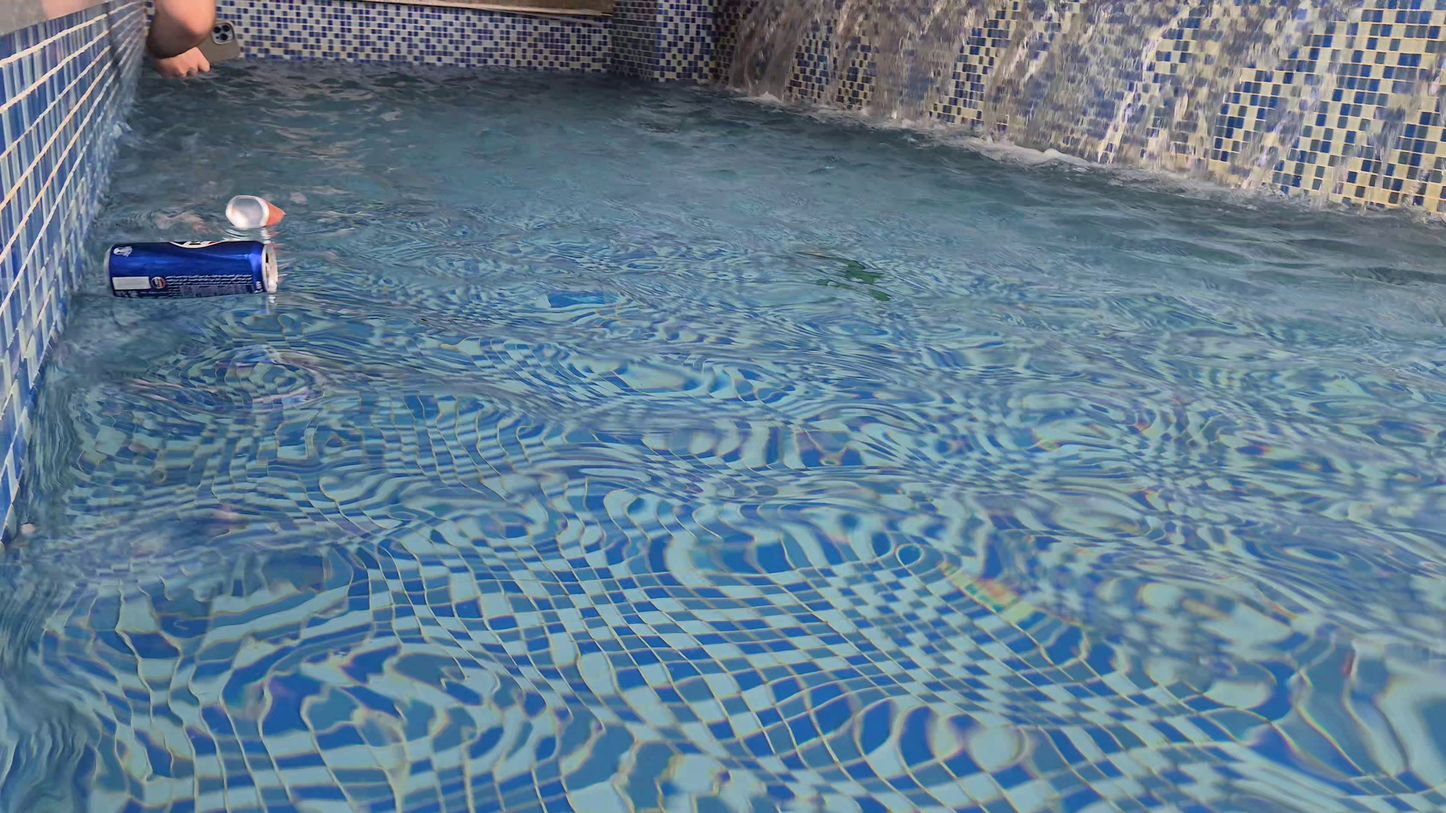debris: (99, 233, 282, 301), (224, 191, 295, 239)
